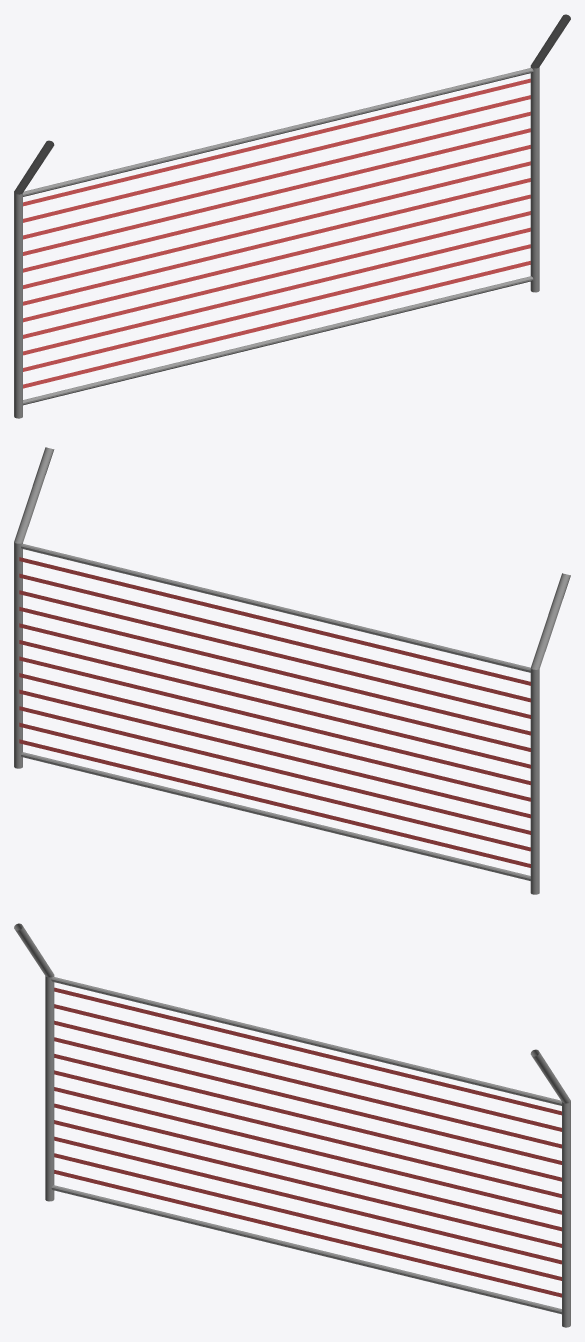
Rendered from fence2.fbx.
3 renders of one model, top to bottom at view 1: azimuth 30°, elevation 25°; view 2: azimuth 150°, elevation 25°; view 3: azimuth 330°, elevation 25°, orthographic.
Parts seen in each view (by area): view 1: polySurface25; view 2: polySurface25; view 3: polySurface25.
Part boxes in pixels (x1,y1,x2,y2): polySurface25: [14, 14, 570, 418]; polySurface25: [14, 447, 570, 894]; polySurface25: [14, 923, 570, 1327].
Bounding box in the file's own units: 722 × 391 × 84.54.
